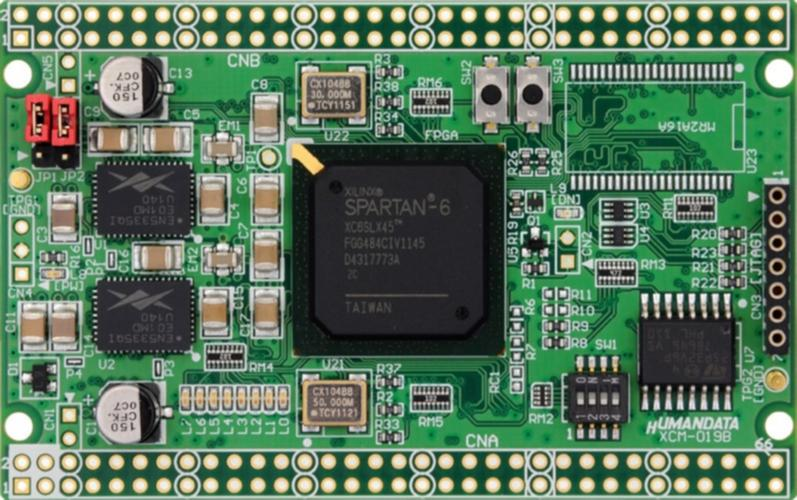tranzystor: (521, 225, 552, 259)
